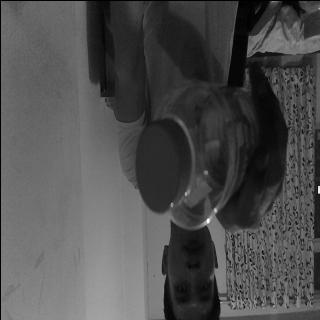plastic_bottles: (135, 86, 259, 230)
